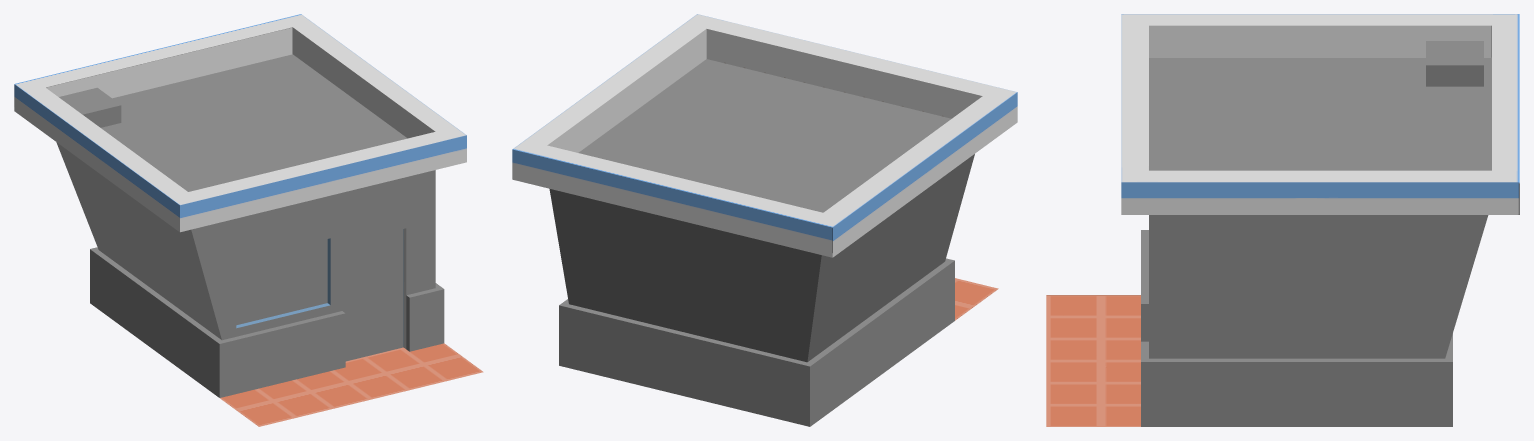
File: Without Canopies.FBX
3 views of the same model, side by side, from view 1: azimuth 30°, elevation 25°; view 2: azimuth 150°, elevation 25°; view 3: azimuth 270°, elevation 25° (orthographic). The views are drawn at different scales.
Parts seen in each view (by area): view 1: Store, Plane; view 2: Store, Plane; view 3: Store, Plane.
Part boxes in pixels (x1,y1,x2,y2): Store: (14,14,466,397); Plane: (220,343,483,426); Store: (512,14,1017,426); Plane: (955,278,998,320); Store: (1121,14,1519,426); Plane: (1046,295,1140,426).
Bounding box in the file's own units: 101 × 70.47 × 119.
8 materials, 2 textured.
